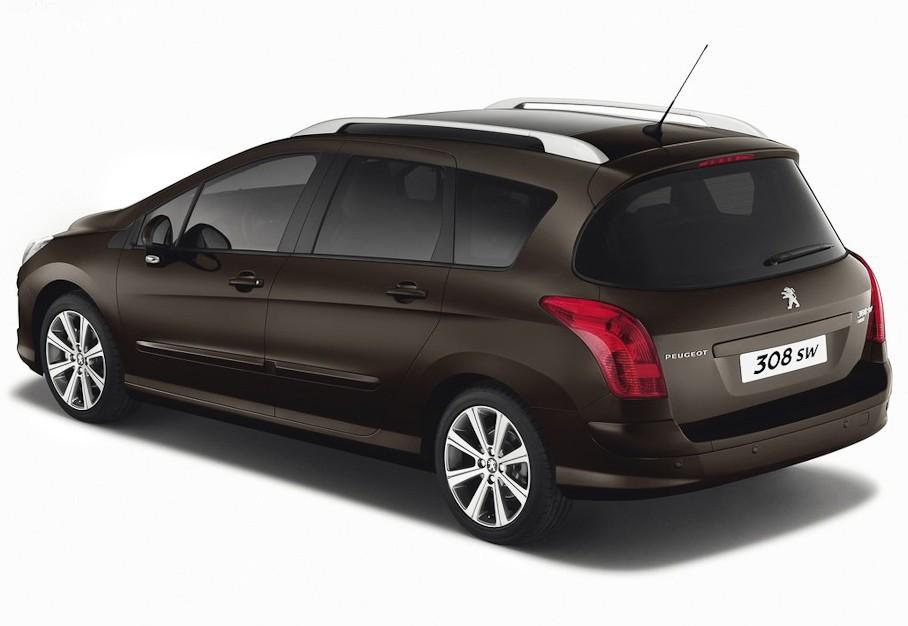Wagon: (16, 97, 892, 545)
